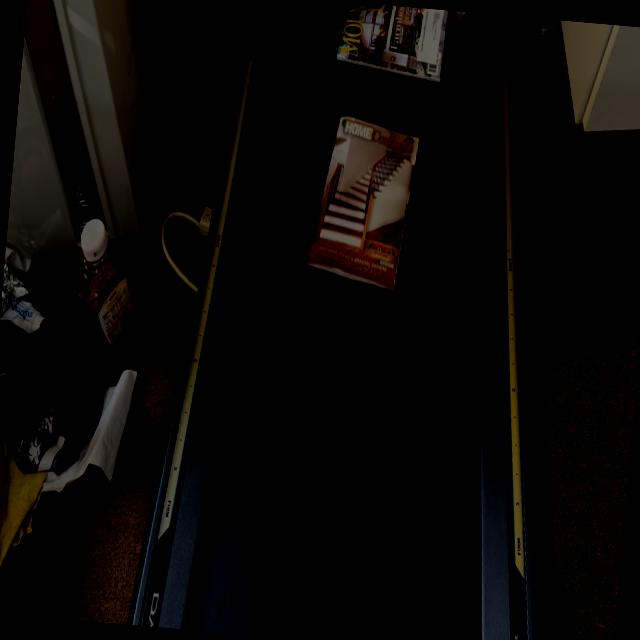Recycle: (300, 112, 424, 296), (332, 0, 451, 88)
